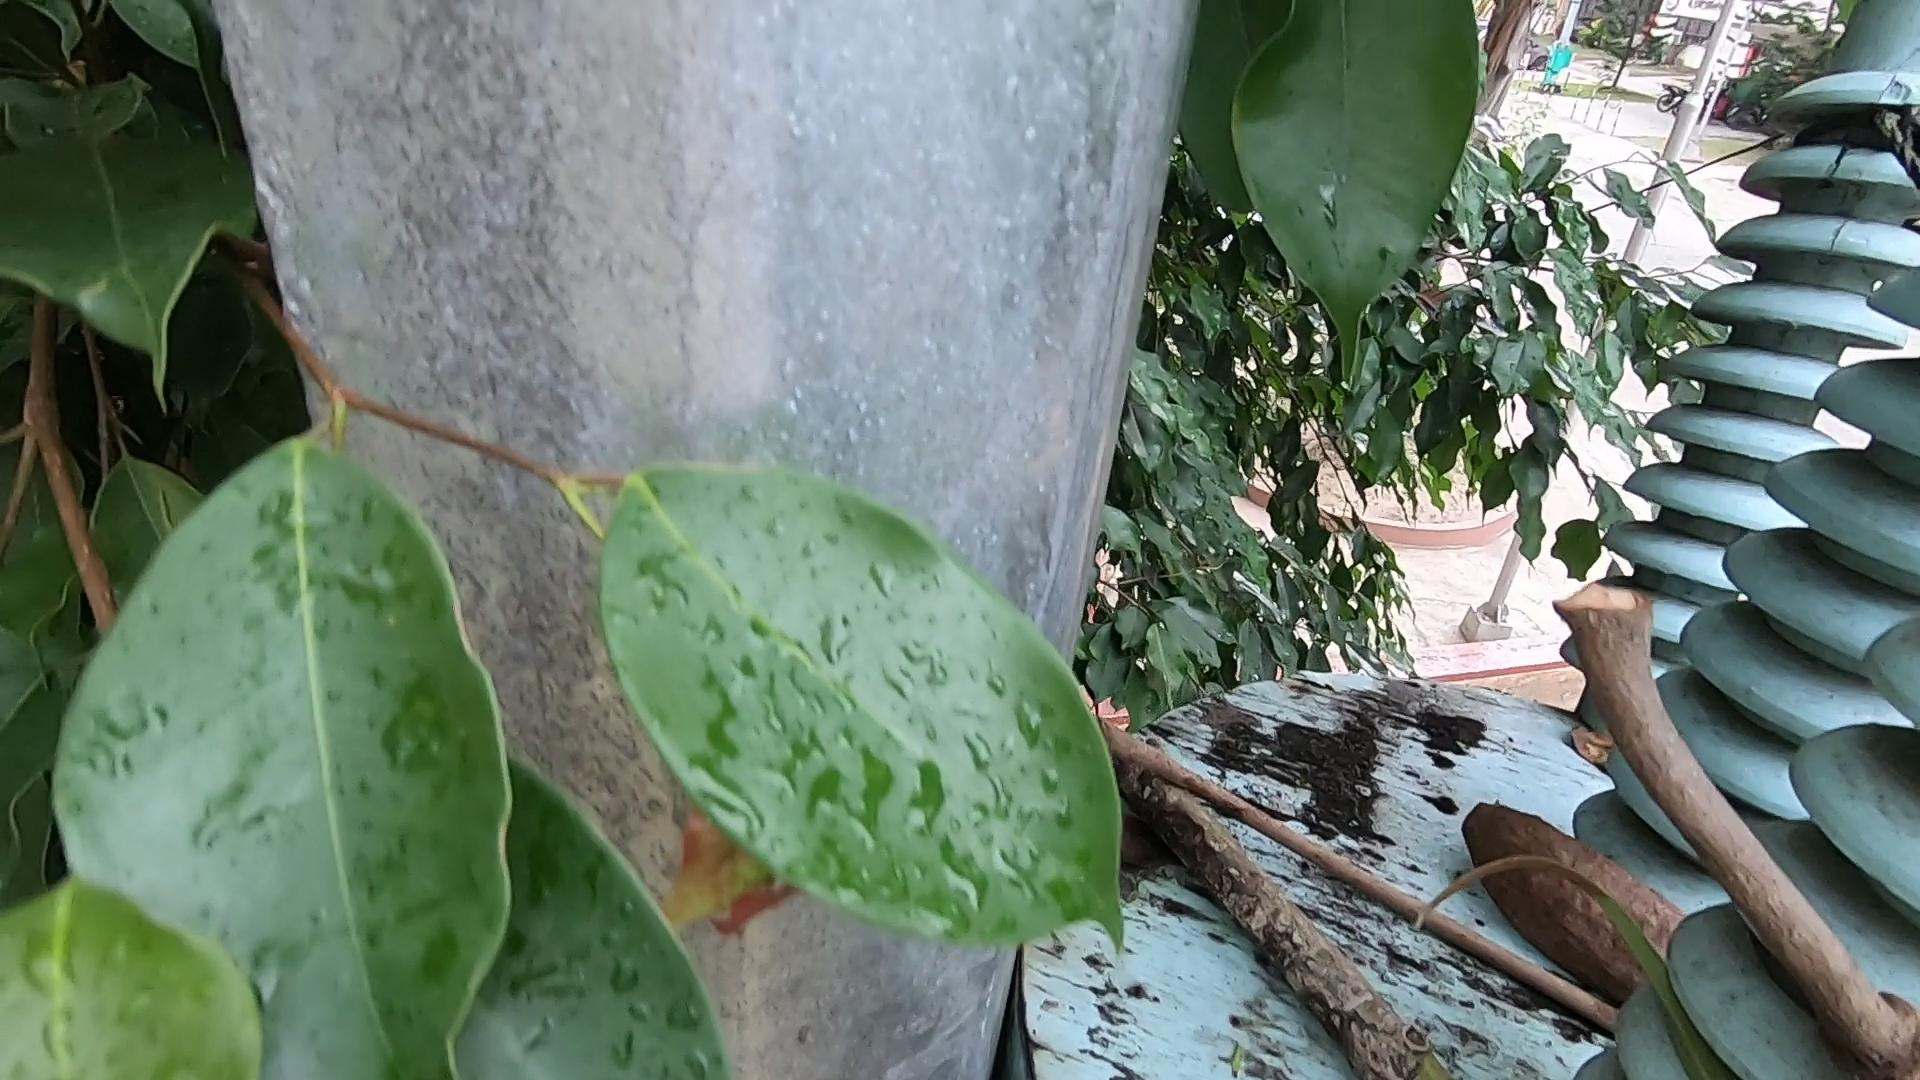branch with leaves: (1101, 727, 1411, 1080)
leaf: (1576, 694, 1643, 794)
mahogany fruit: (1433, 785, 1698, 975)
tree branch: (1083, 699, 1619, 1017), (1567, 556, 1920, 1030)
